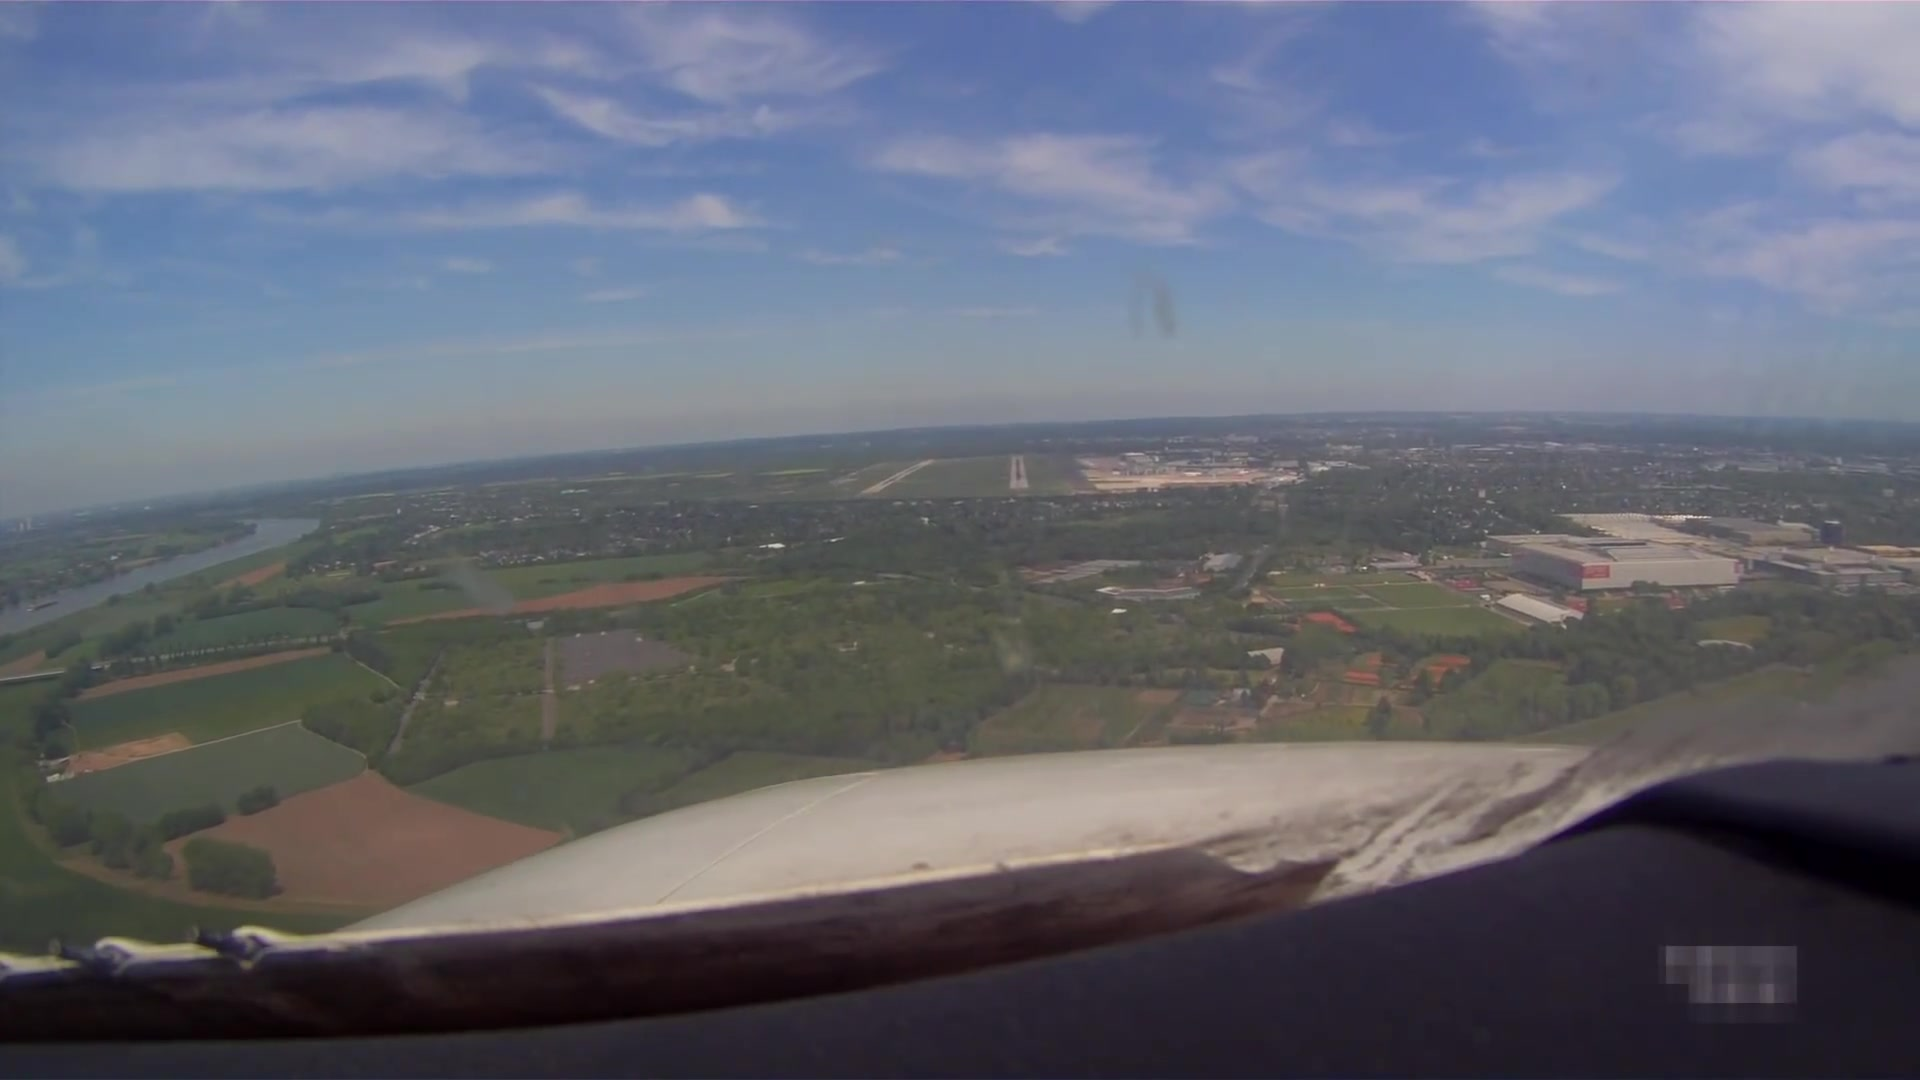runway: (858, 458, 934, 495), (1006, 454, 1030, 492)
